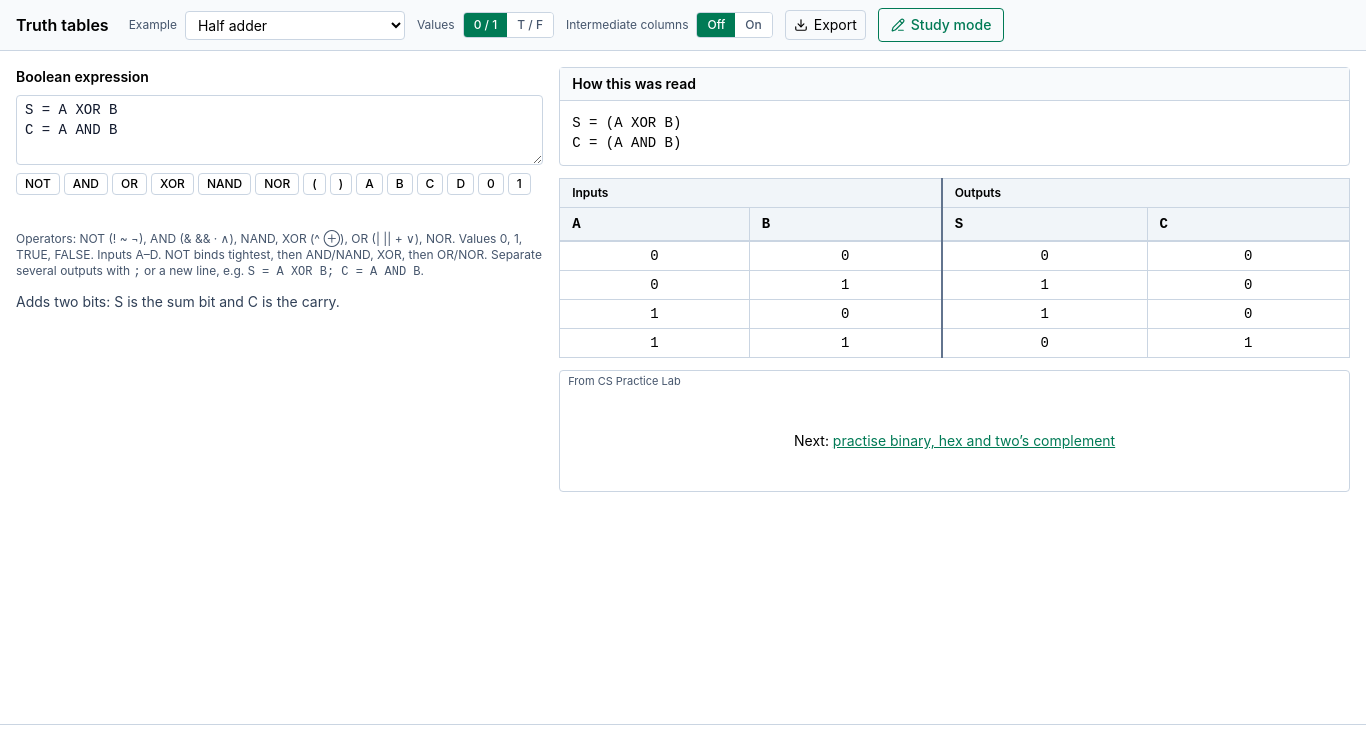
Scenario: Truth Table Study Mode › random mask shows the share control and "New random mask"
Click the button "Study mode" at coordinates (941, 25), box [878, 8, 1004, 42]
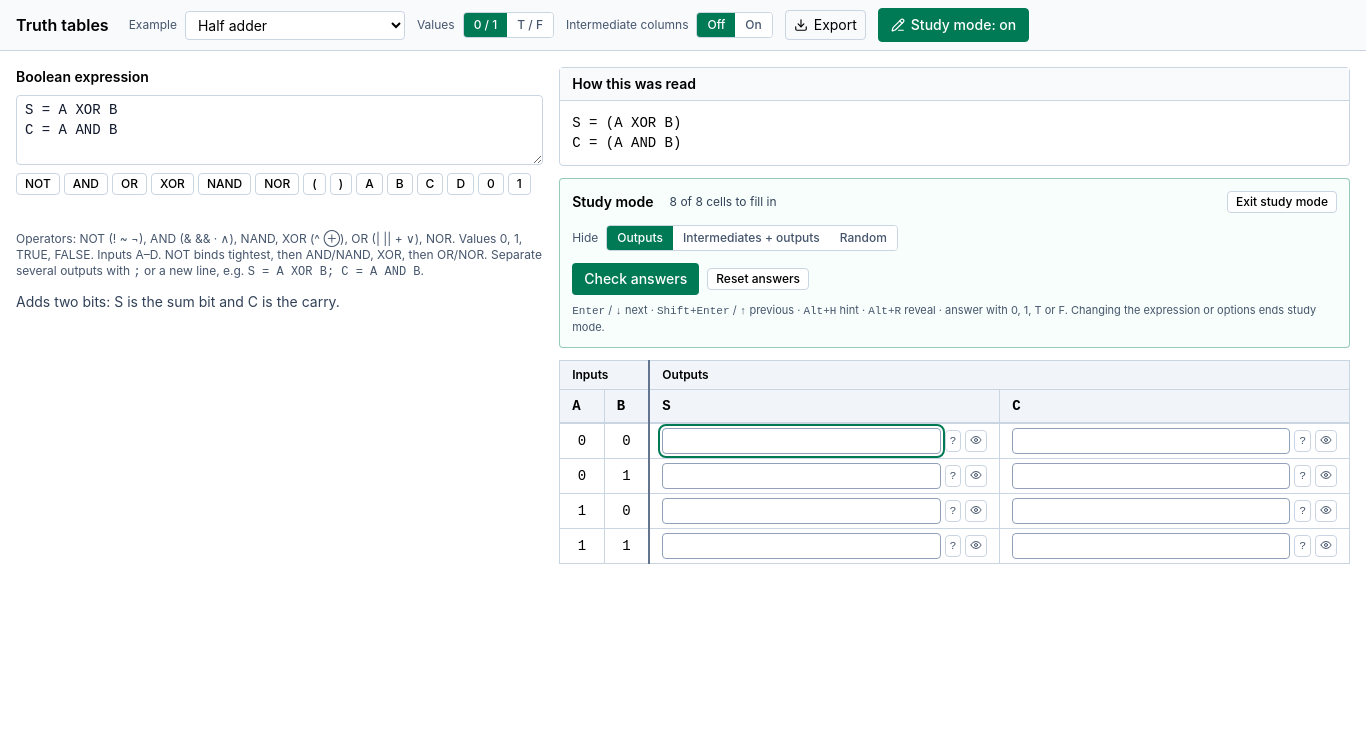
expect the number of fields named "Row 1, S" is 8: met
Click the radio button labelled "Random" at coordinates (863, 238), box [830, 226, 897, 250]
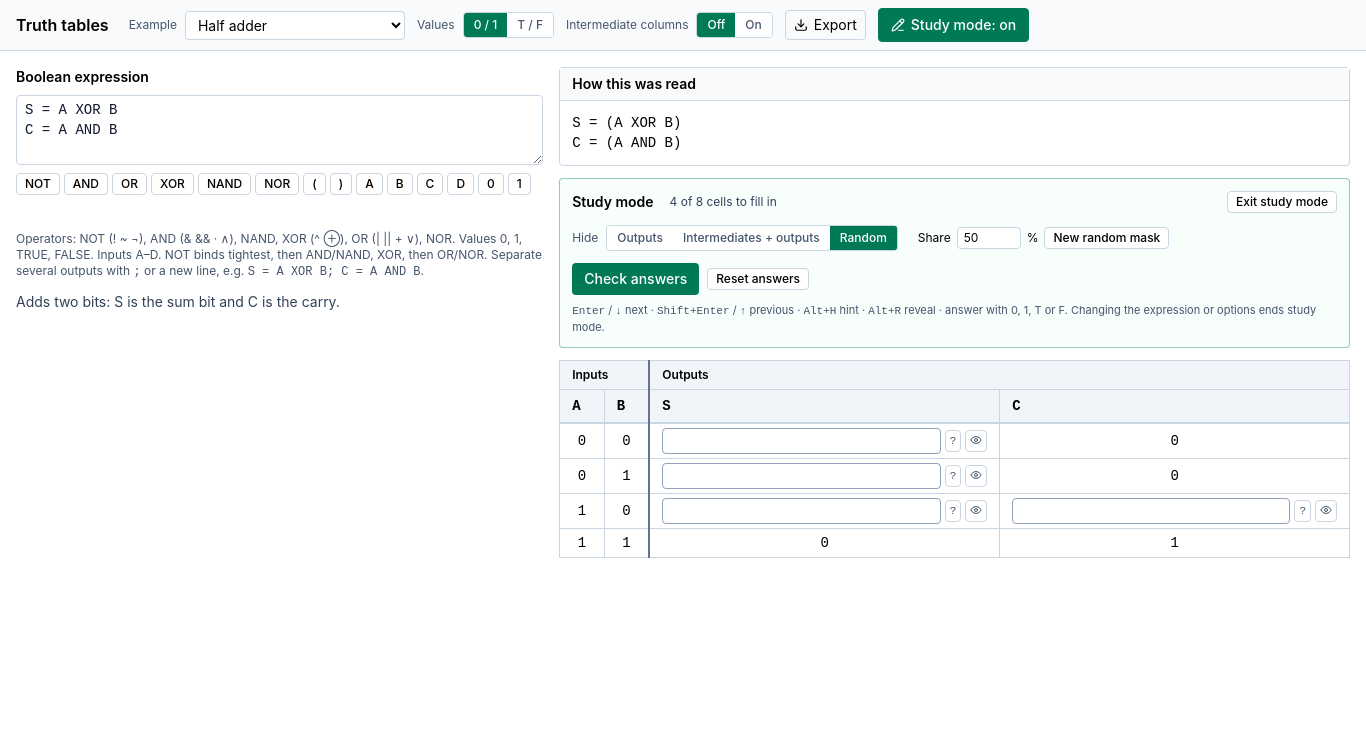
expect the number of fields named "Row 1, S" is 4: met, box [662, 428, 941, 454]; [662, 463, 941, 489]; [662, 498, 941, 524]; [1012, 498, 1290, 524]
expect the button "New random mask" is shown: met, box [1044, 227, 1169, 249]
